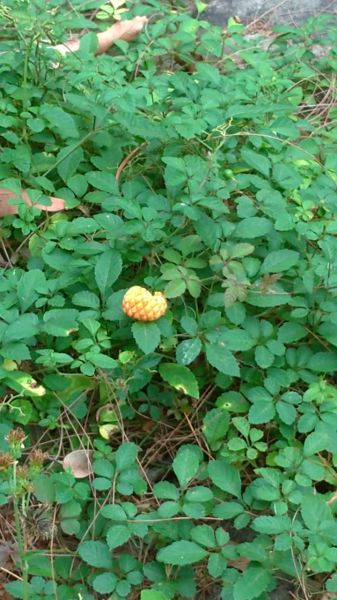eggs: (117, 278, 170, 324)
